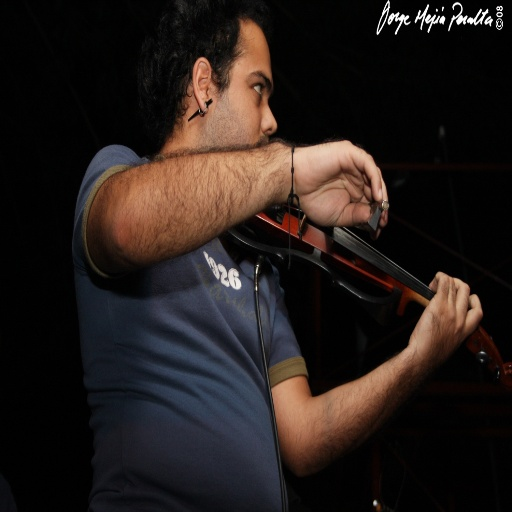hand: (292, 139, 388, 241), (407, 273, 485, 372)
